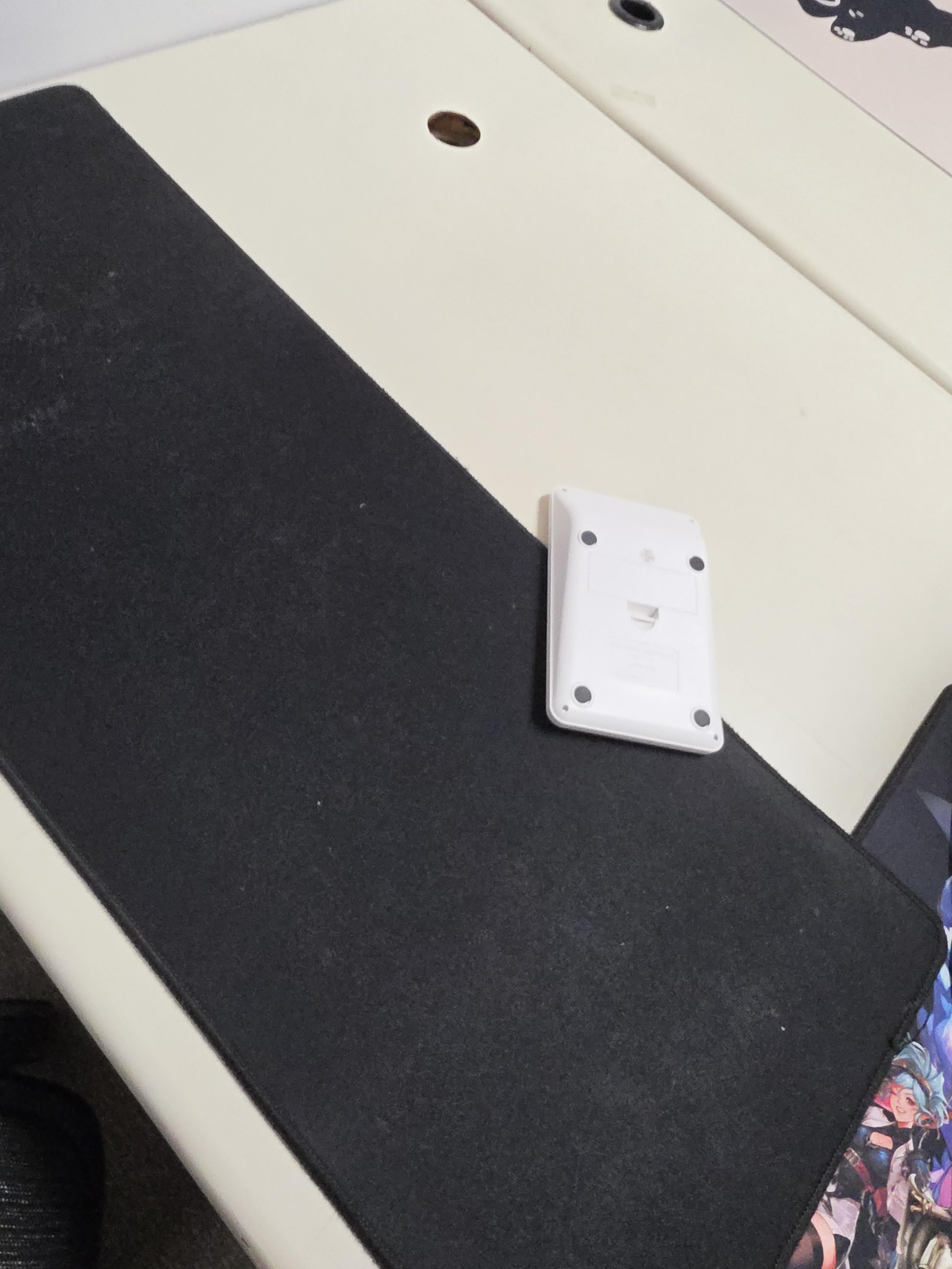calculator: (545, 485, 724, 755)
